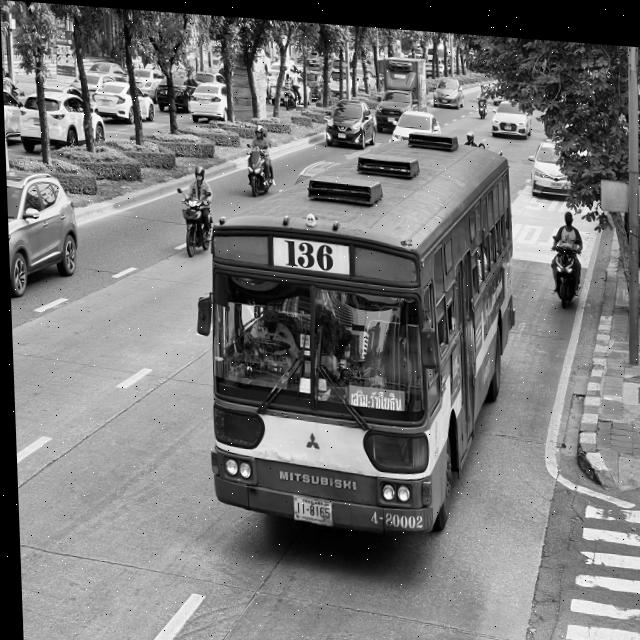BMTA-bus: (191, 114, 522, 540)
Bus-Line-Number: (273, 228, 345, 274)
Destination-Sign-Extra-Bus: (346, 378, 402, 409)
